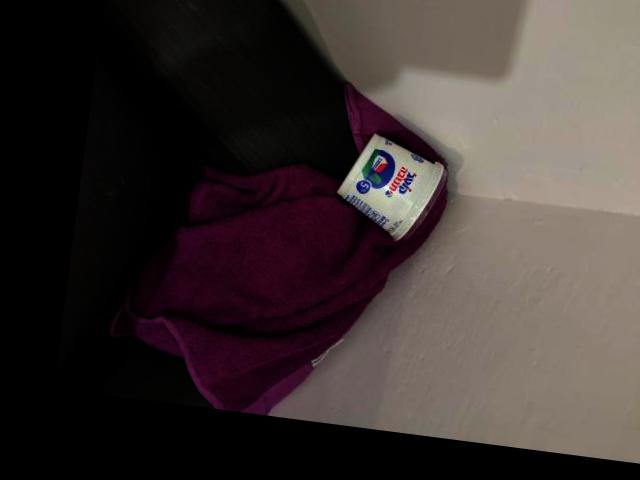cotage: (336, 135, 454, 244)
